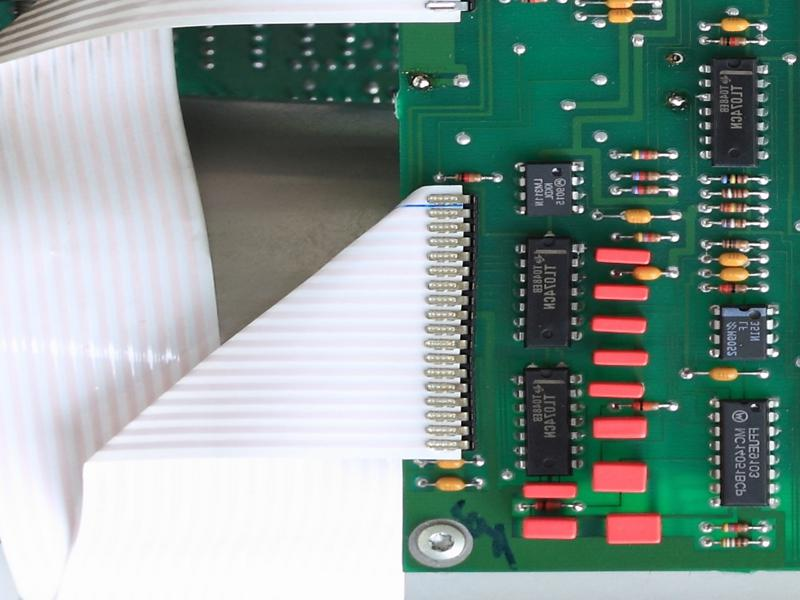Resistor: (625, 147, 666, 163), (626, 399, 665, 415), (628, 229, 667, 244), (716, 236, 755, 251), (625, 169, 666, 183), (717, 520, 755, 535), (715, 282, 755, 296), (716, 172, 755, 186), (715, 200, 754, 214), (714, 536, 753, 550), (625, 184, 666, 197), (713, 217, 754, 230), (526, 499, 570, 511), (450, 172, 485, 186), (714, 35, 751, 48), (717, 188, 754, 200)
